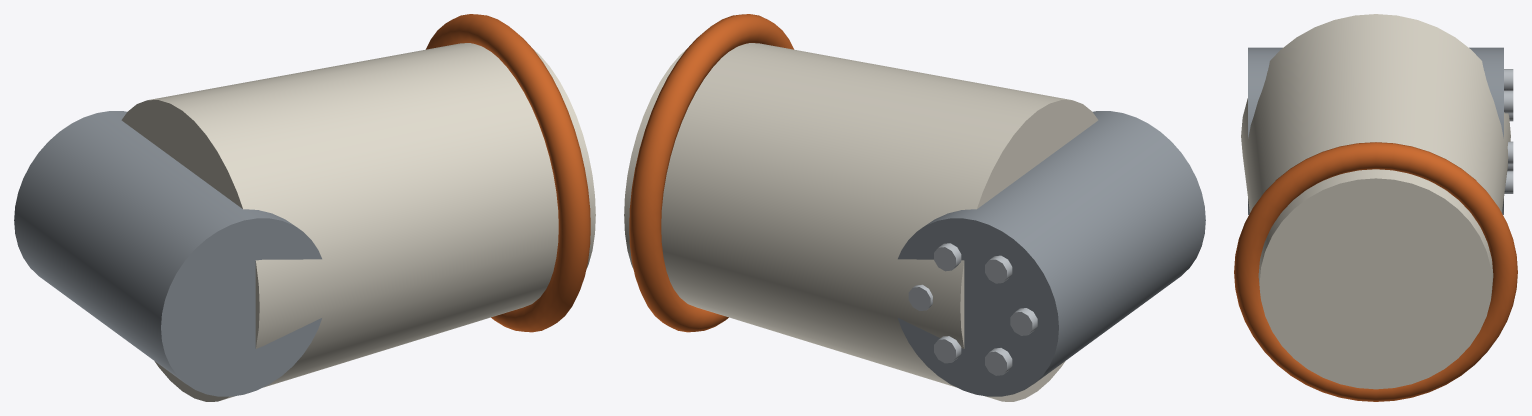
Rendered from tail_yaw_link.glb.
3 renders of one model, left to right at view 1: azimuth 30°, elevation 25°; view 2: azimuth 150°, elevation 25°; view 3: azimuth 270°, elevation 25°, orthographic. The views are drawn at different scales.
Visible parts, largest first — view 1: tail_yaw_link; view 2: tail_yaw_link; view 3: tail_yaw_link.
Boxes of the visible parts, bbox=[...] form: tail_yaw_link: bbox=[14, 14, 595, 401]; tail_yaw_link: bbox=[624, 14, 1205, 401]; tail_yaw_link: bbox=[1234, 14, 1517, 401].
Bounding box in the file's own units: 0.191 × 0.122 × 0.122.
